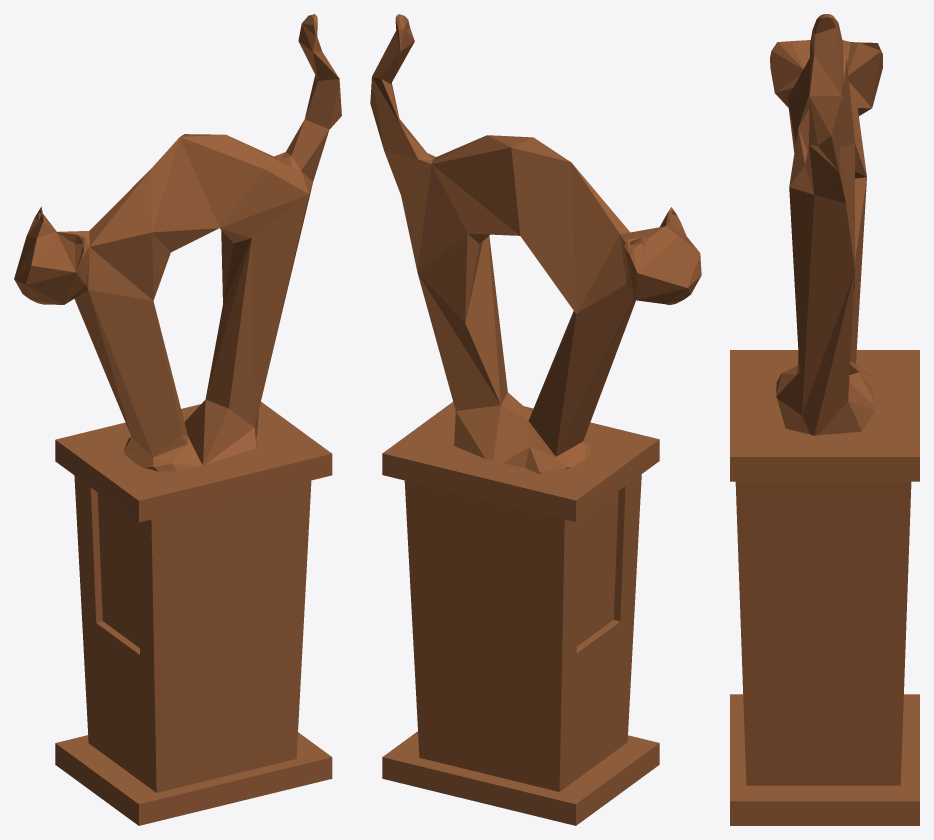
Rendered from brozeCat.FBX.
3 views of the same model, side by side, from view 1: azimuth 30°, elevation 25°; view 2: azimuth 150°, elevation 25°; view 3: azimuth 270°, elevation 25° (orthographic). The views are drawn at different scales.
Parts seen in each view (by area): view 1: cat006; view 2: cat006; view 3: cat006.
Part boxes in pixels (x1=…): cat006: x1=14, y1=14, x2=341, y2=825; cat006: x1=370, y1=14, x2=701, y2=825; cat006: x1=730, y1=14, x2=919, y2=825.
Size of the model in its own units: 10.44 by 22.51 by 4.69.
